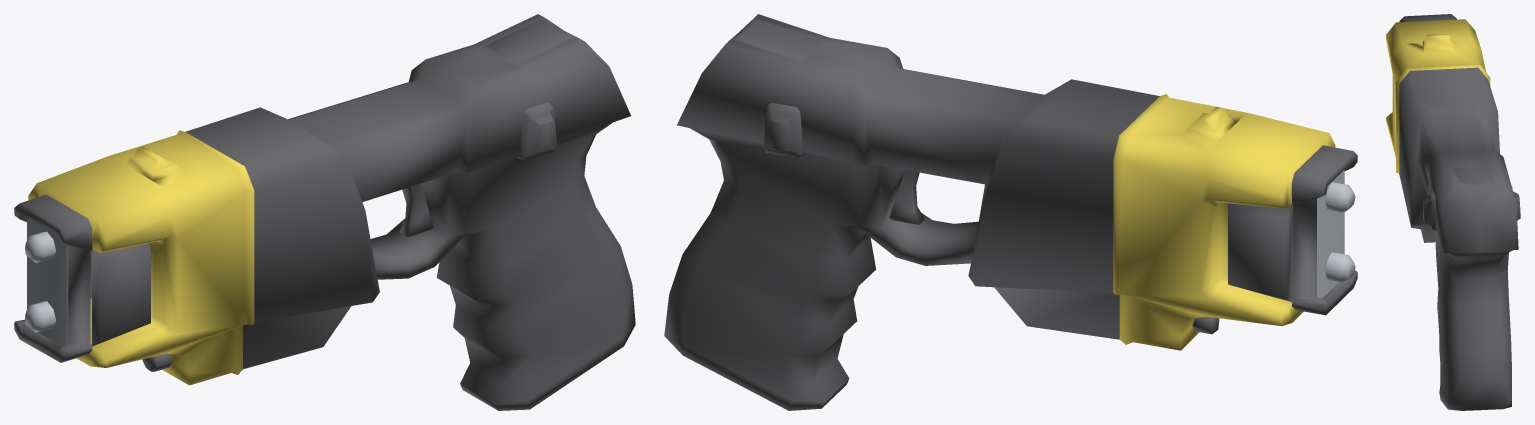
The model's file is taser.glb.
3 views of the same model, side by side, from view 1: azimuth 30°, elevation 25°; view 2: azimuth 150°, elevation 25°; view 3: azimuth 270°, elevation 25° (orthographic). The views are drawn at different scales.
Parts seen in each view (by area): view 1: taser; view 2: taser; view 3: taser.
Boxes of the visible parts, x1=… form: taser: x1=14, y1=14, x2=635, y2=410; taser: x1=664, y1=14, x2=1357, y2=410; taser: x1=1386, y1=14, x2=1520, y2=410.
Size of the model in its own units: 0.2231 by 0.1182 by 0.0605.
